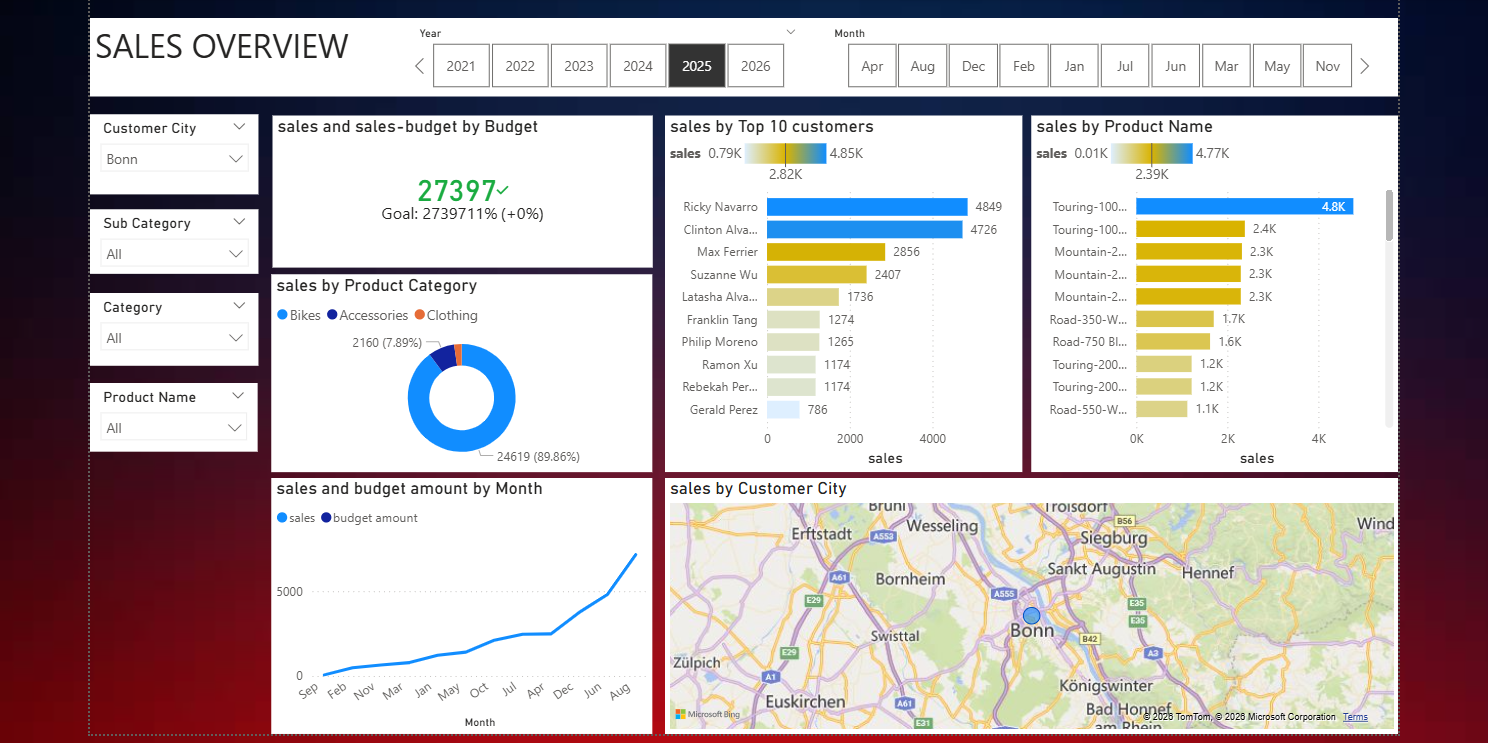

The dashboard page shown, as its layout file describes it:
{"tool":"powerbi","page":{"name":"sales overview","canvas":[1280,720],"ordinal":0},"visuals":[{"type":"textbox","box":[0,19.6,1280.3,77],"z":0},{"type":"slicer","fields":{"Values":["dim_customers.Customer City"]},"box":[0,113.7,165.1,78.3],"z":1000},{"type":"slicer","fields":{"Values":["dim_products.Sub Category"]},"box":[0,206.7,165.1,63.6],"z":2000},{"type":"slicer","fields":{"Values":["dim_products.Product Category"]},"box":[0,288.6,165.1,70.9],"z":3000},{"type":"slicer","fields":{"Values":["dim_products.Product Name"]},"box":[0,376.6,163.9,67.3],"z":4000},{"type":"slicer","fields":{"Values":["dim_calender.Year"]},"box":[309.4,23.2,393.8,70.9],"z":5000},{"type":"slicer","fields":{"Values":["dim_calender.MonthShort"]},"box":[715.4,23.2,542.9,70.9],"z":6000},{"type":"kpi","fields":{"TrendLine":["fact_budget.Budget"],"Indicator":["key measures.sales"],"Goal":["key measures.sales-budget"]},"box":[178.9,114.4,372.2,148.9],"z":7000},{"type":"donutChart","fields":{"Category":["dim_products.Product Category"],"Y":["key measures.sales"]},"box":[177.3,270.2,373,193.2],"z":8000},{"type":"lineChart","fields":{"Y":["key measures.sales","key measures.budget amount"],"Category":["dim_calender.MonthShort"]},"box":[177.3,469.6,373,250.7],"z":9000},{"type":"barChart","fields":{"Y":["key measures.sales"],"Category":["dim_customers.Full Name"]},"box":[562.5,114.9,349.7,348.5],"z":10000},{"type":"barChart","fields":{"Y":["key measures.sales"],"Category":["dim_products.Product Name"]},"box":[920.8,114.9,359.5,348.5],"z":11000},{"type":"map","fields":{"Category":["dim_customers.Customer City"],"Size":["key measures.sales"]},"box":[562.5,469.6,717.8,250.7],"z":12000}]}

Visuals, with their boxes on the page's 1280x720 design canvas (x1, y1, x2, y2). These are canvas units, not pixel positions in the 1488x743 screenshot, which may show the page scaled, cropped or inside an application window:
textbox: region(0, 20, 1280, 97)
slicer - dim_customers.Customer City: region(0, 114, 165, 192)
slicer - dim_products.Sub Category: region(0, 207, 165, 270)
slicer - dim_products.Product Category: region(0, 289, 165, 360)
slicer - dim_products.Product Name: region(0, 377, 164, 444)
slicer - dim_calender.Year: region(309, 23, 703, 94)
slicer - dim_calender.MonthShort: region(715, 23, 1258, 94)
kpi - fact_budget.Budget x key measures.sales: region(179, 114, 551, 263)
donutChart - dim_products.Product Category x key measures.sales: region(177, 270, 550, 463)
lineChart - key measures.sales x key measures.budget amount: region(177, 470, 550, 720)
barChart - key measures.sales x dim_customers.Full Name: region(562, 115, 912, 463)
barChart - key measures.sales x dim_products.Product Name: region(921, 115, 1280, 463)
map - dim_customers.Customer City x key measures.sales: region(562, 470, 1280, 720)
